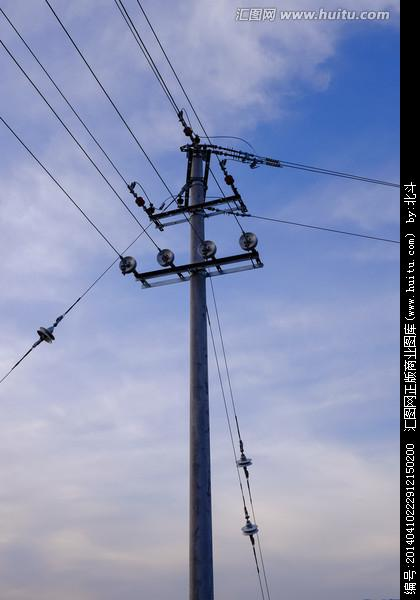utility_pole: (110, 106, 276, 306)
